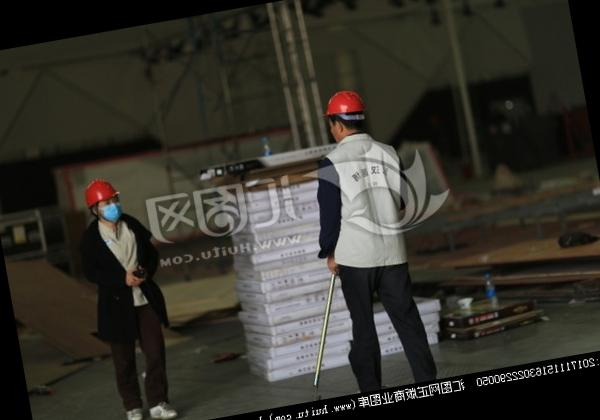helmet: (318, 86, 369, 123), (75, 174, 122, 209)
no_wear: (83, 214, 162, 312)
wear: (314, 134, 422, 274)
